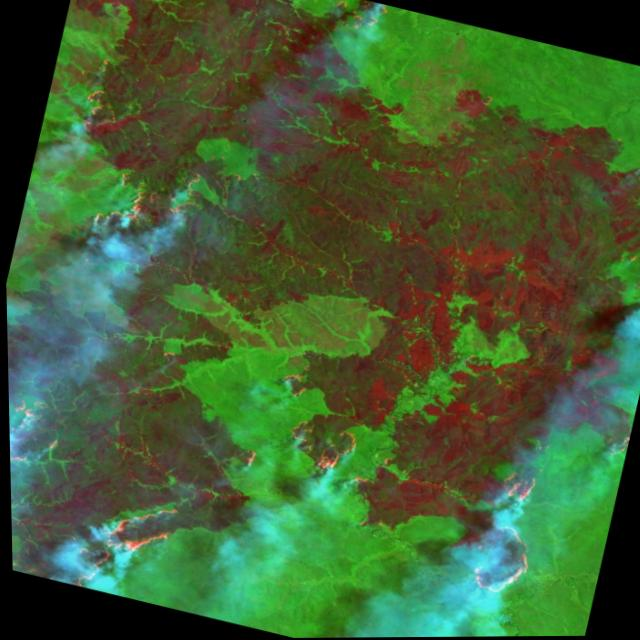fire: (6, 351, 223, 610), (221, 343, 418, 516), (56, 143, 224, 296), (444, 438, 574, 615), (313, 0, 400, 49)
